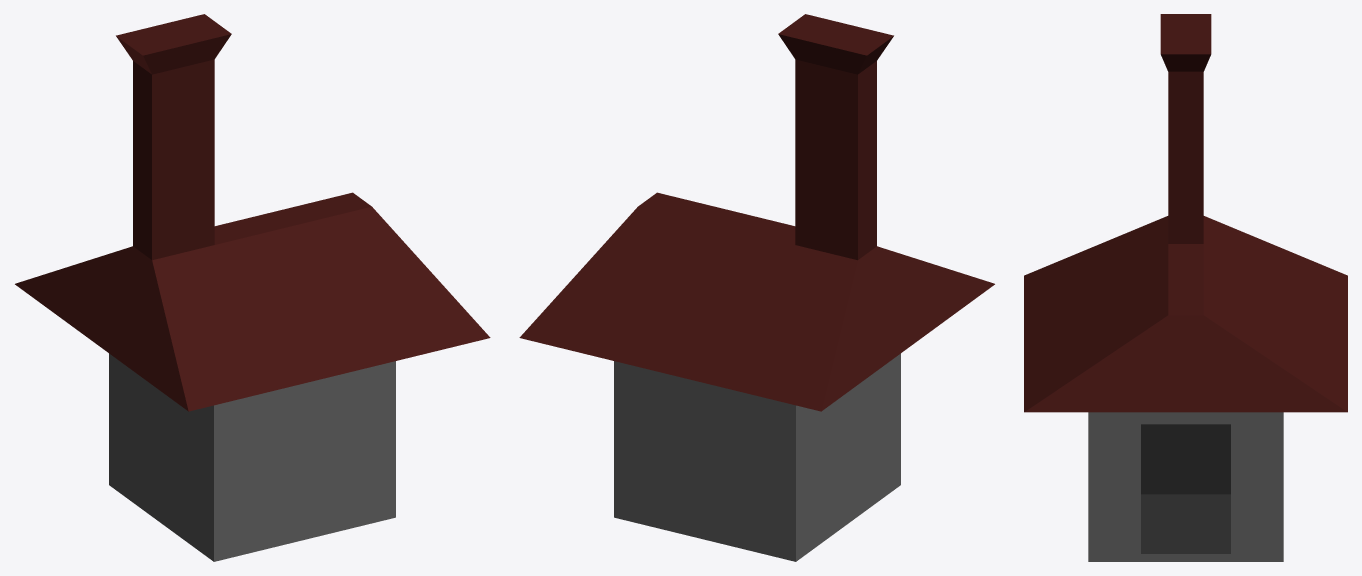
The picture shows the model from 3 angles, left to right: view 1: azimuth 30°, elevation 25°; view 2: azimuth 150°, elevation 25°; view 3: azimuth 270°, elevation 25°; orthographic projection. The views are drawn at different scales.
Parts seen in each view (by area): view 1: Cube; view 2: Cube; view 3: Cube.
Part boxes in pixels (x1=…): Cube: x1=15, y1=14, x2=490, y2=561; Cube: x1=519, y1=14, x2=994, y2=561; Cube: x1=1024, y1=14, x2=1347, y2=561.
Bounding box in the file's own units: 332 × 510 × 332.
